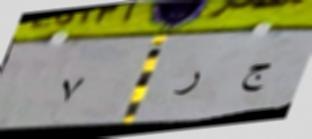7: (53, 75, 91, 106)
jeem: (237, 58, 273, 97)
raa: (168, 65, 208, 96)
